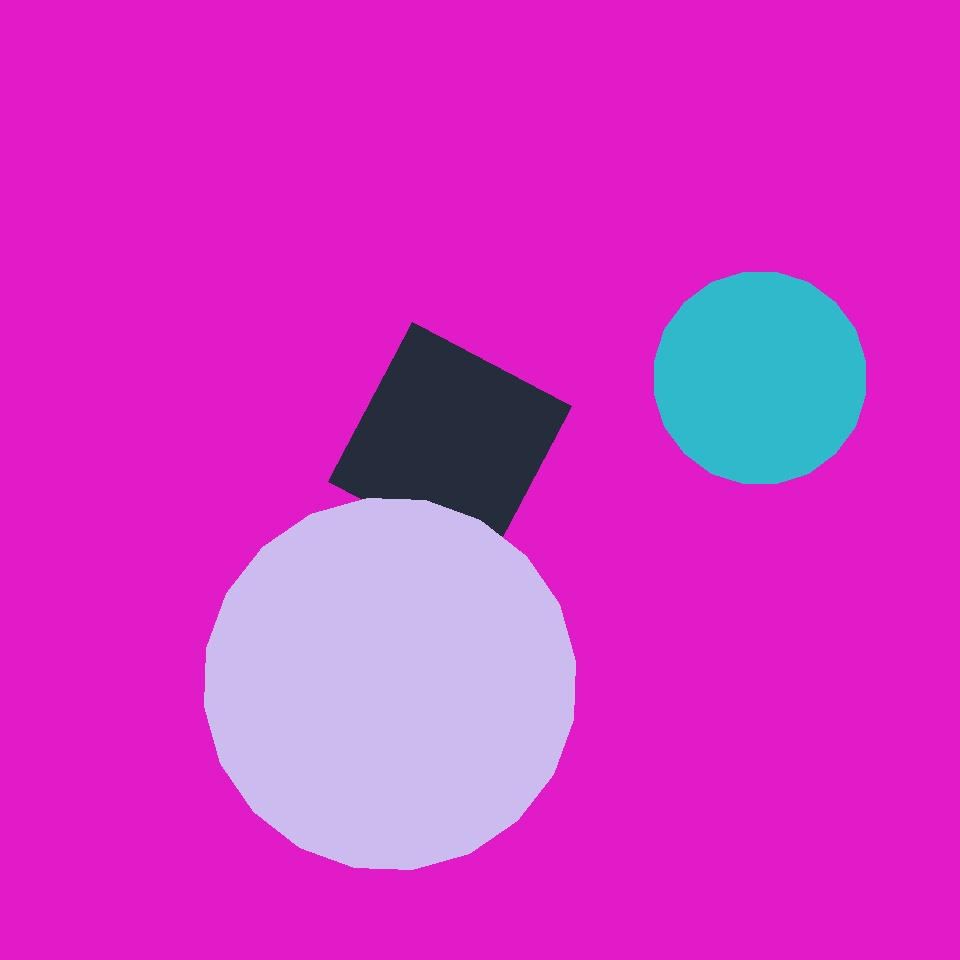square: (328, 322, 572, 566)
triangle: (204, 498, 576, 870), (654, 272, 865, 484)
